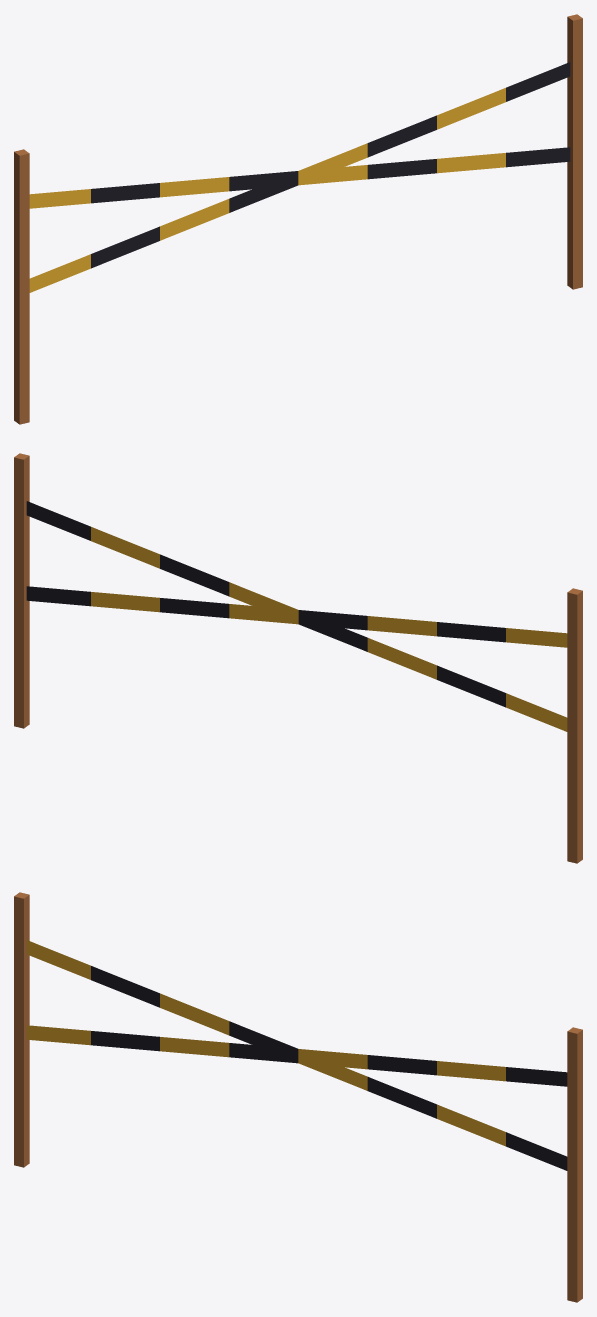
The model's file is prop.l10-quarantine-tape.lod2.glb.
3 renders of one model, top to bottom at view 1: azimuth 30°, elevation 25°; view 2: azimuth 150°, elevation 25°; view 3: azimuth 330°, elevation 25°, orthographic.
Parts seen in each view (by area): view 1: body; view 2: body; view 3: body.
Part boxes in pixels (bbox=[...]): body: bbox=[14, 14, 582, 424]; body: bbox=[14, 453, 582, 863]; body: bbox=[14, 892, 582, 1302].
Size of the model in its own units: 2.85 by 1.3 by 0.05.
